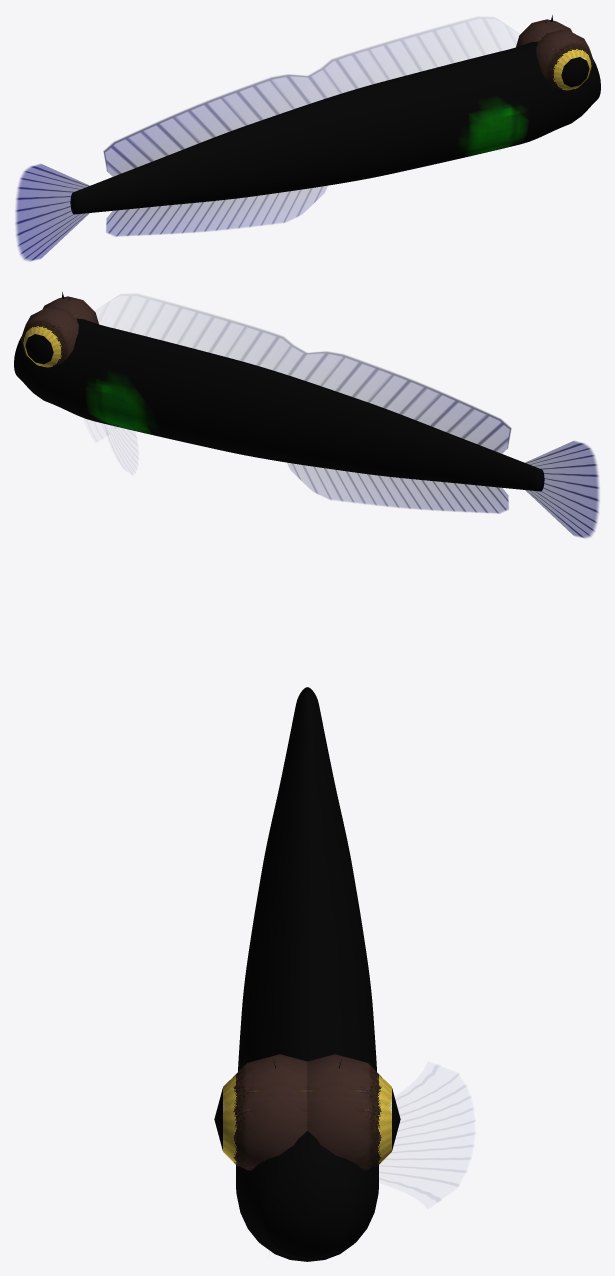
The model's file is tailspot_blenny.glb.
3 renders of one model, top to bottom at view 1: azimuth 30°, elevation 25°; view 2: azimuth 150°, elevation 25°; view 3: azimuth 270°, elevation 25°, orthographic. The views are drawn at different scales.
Visible parts, largest first — view 1: Body, FinDorsal, FinAnal, FinCaudal, EyeR, EyeL; view 2: Body, FinDorsal, FinAnal, FinCaudal, EyeL, EyeR; view 3: Body, EyeL, EyeR.
Boxes of the visible parts, left/top/right/bottom form: Body: left=70, top=15, right=600, bottom=214; FinDorsal: left=103, top=21, right=485, bottom=176; FinAnal: left=106, top=186, right=327, bottom=236; FinCaudal: left=15, top=164, right=89, bottom=261; EyeR: left=536, top=29, right=593, bottom=91; EyeL: left=516, top=19, right=572, bottom=47; Body: left=14, top=292, right=544, bottom=491; FinDorsal: left=129, top=298, right=511, bottom=453; FinAnal: left=287, top=463, right=508, bottom=513; FinCaudal: left=525, top=441, right=599, bottom=538; EyeL: left=21, top=306, right=78, bottom=368; EyeR: left=42, top=296, right=98, bottom=324; Body: left=236, top=687, right=378, bottom=1261; EyeL: left=307, top=1054, right=400, bottom=1170; EyeR: left=214, top=1054, right=307, bottom=1170.
Size of the model in its own units: 1 by 0.2651 by 0.2528.
4 materials, 3 textured.
